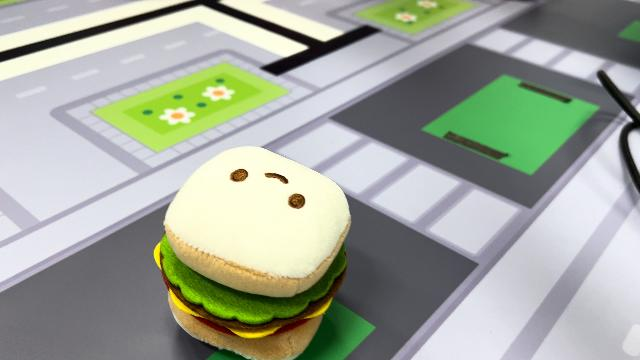sandwich: (152, 143, 354, 357)
